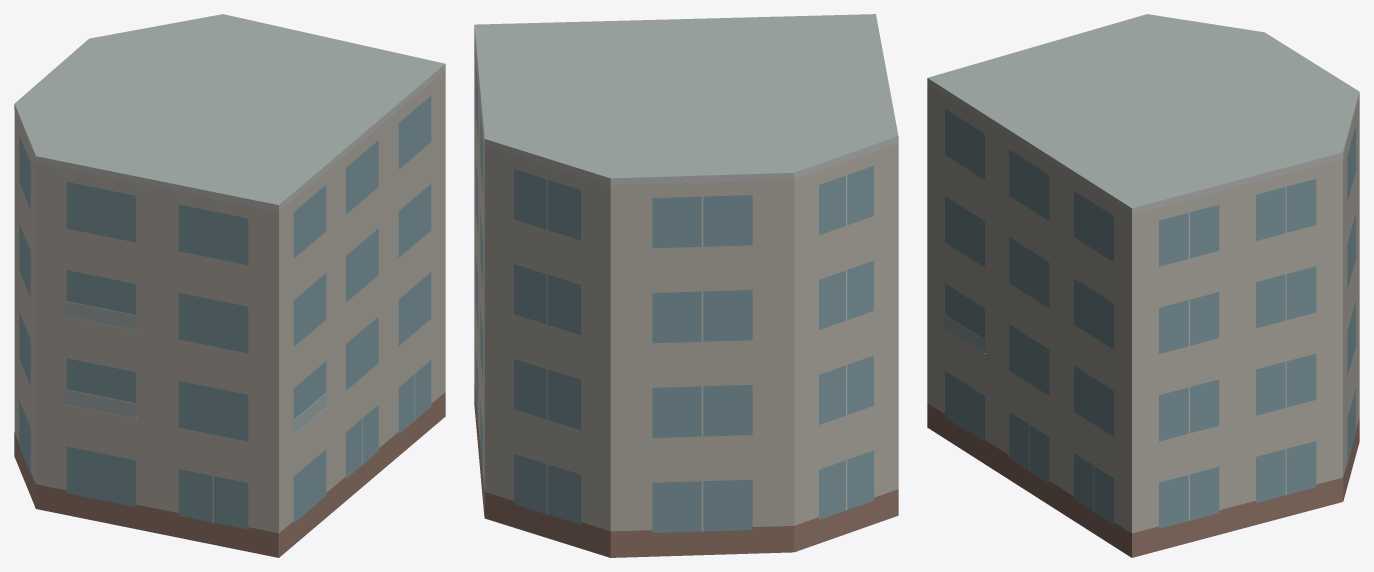
The model's file is survey-upis-32685387.glb.
The picture shows the model from 3 angles, left to right: view 1: azimuth 30°, elevation 25°; view 2: azimuth 150°, elevation 25°; view 3: azimuth 270°, elevation 25°; orthographic projection. The views are drawn at different scales.
Parts seen in each view (by area): view 1: survey-upis-32685387.tmp; view 2: survey-upis-32685387.tmp; view 3: survey-upis-32685387.tmp.
Boxes of the visible parts, x1=… form: survey-upis-32685387.tmp: x1=14, y1=14, x2=445, y2=557; survey-upis-32685387.tmp: x1=474, y1=14, x2=898, y2=557; survey-upis-32685387.tmp: x1=927, y1=14, x2=1359, y2=557.
Size of the model in its own units: 15.84 by 13.28 by 14.9.
